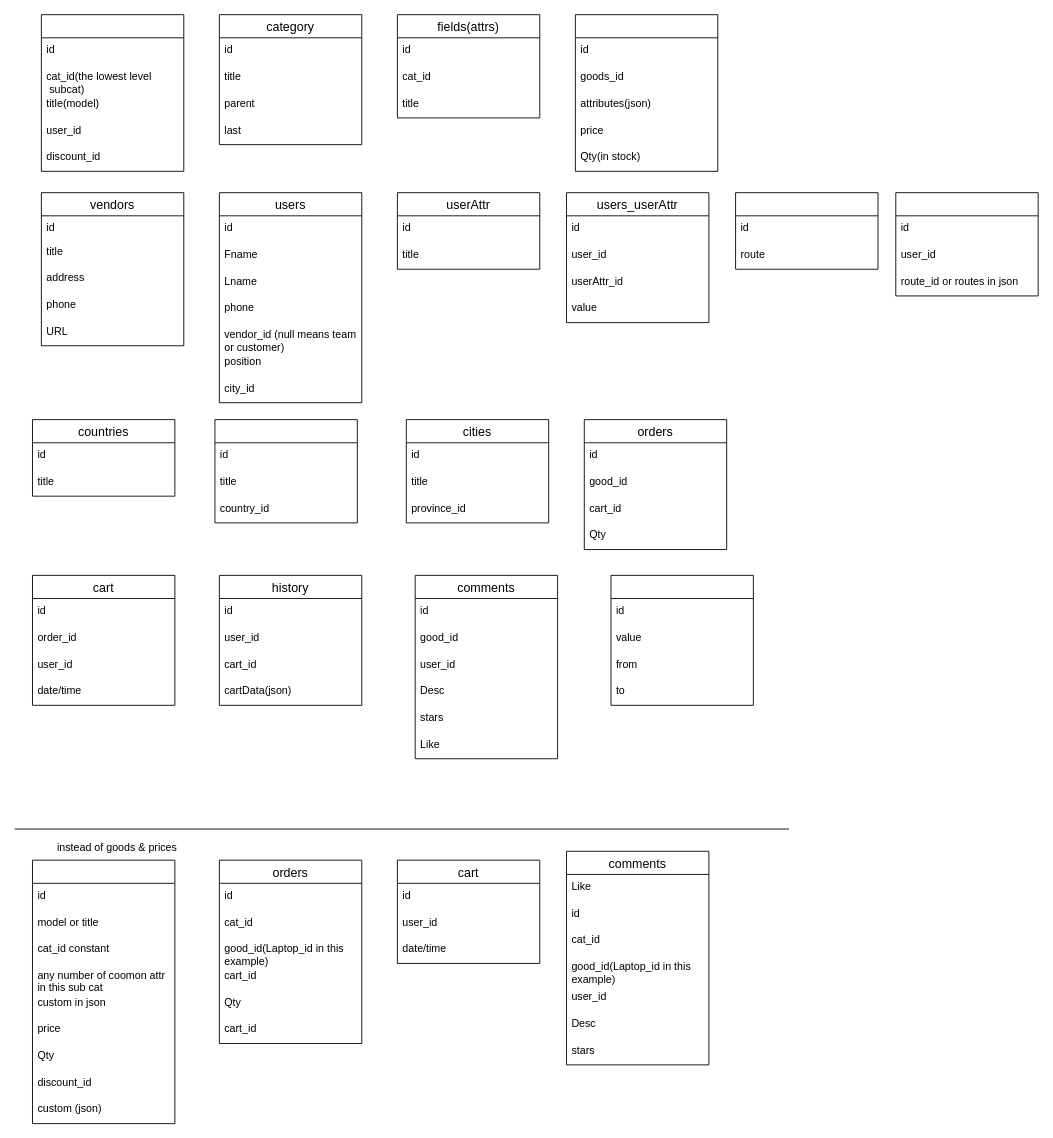
Image size: 1053x1138. Some labels were removed from this diagram. Each missing label, with the box of its shape:
discounts: (610, 574, 753, 705)
goods: (40, 14, 184, 171)
Laptops(subcat): (32, 859, 175, 1124)
permissions: (895, 192, 1038, 296)
prices: (574, 14, 718, 171)
provinces: (214, 419, 357, 523)
routes: (735, 192, 878, 269)
